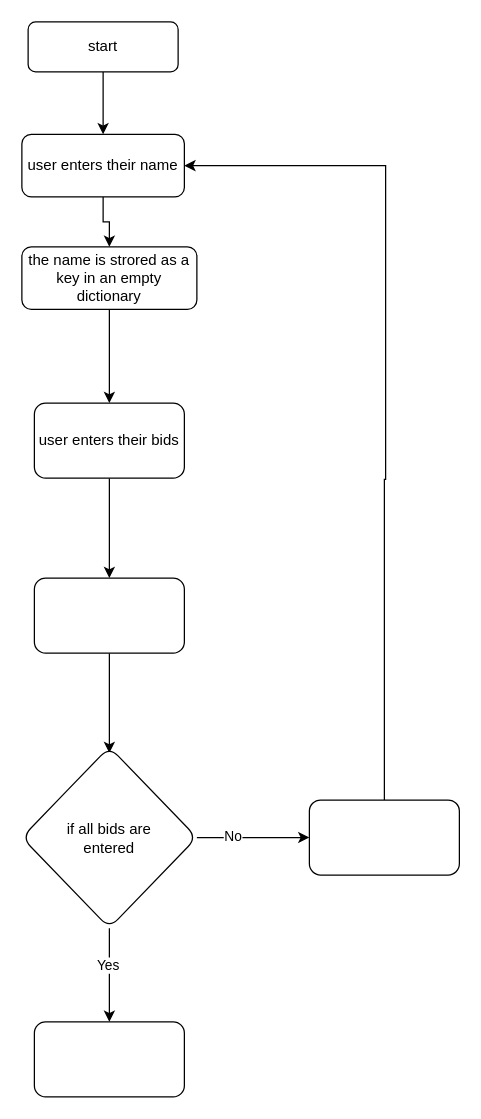
Image size: 481x1119. Some labels were removed from this diagram. The centre of each missing label's shape, as x and y in pixels:
"Checks the user with the highest bidder and prints the dictionary" goes at (x=108, y=1059).
"clears the screen" goes at (x=383, y=837).
"the bid is stored as the value of the key i.e user's name" goes at (x=108, y=615).
